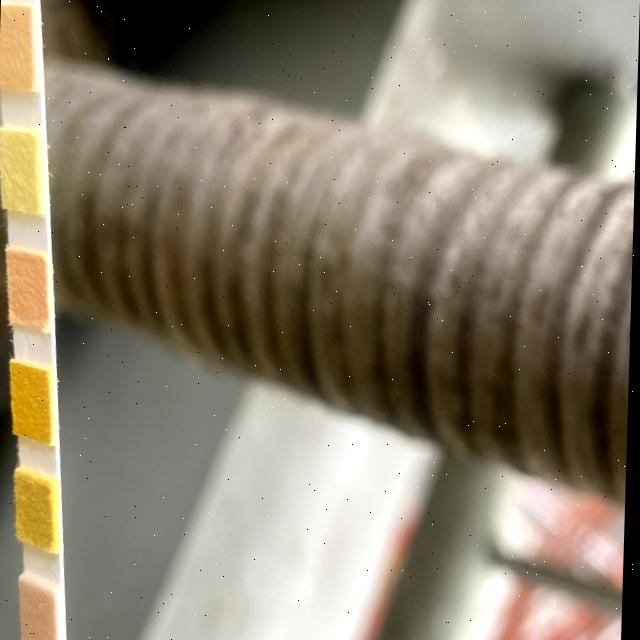Blood: (16, 377, 49, 431)
Ketone: (26, 600, 59, 638)
Protein: (3, 138, 36, 202)
SpGravity: (19, 490, 56, 537)
Urobilinogen: (0, 8, 29, 85)
pH: (10, 261, 45, 318)
